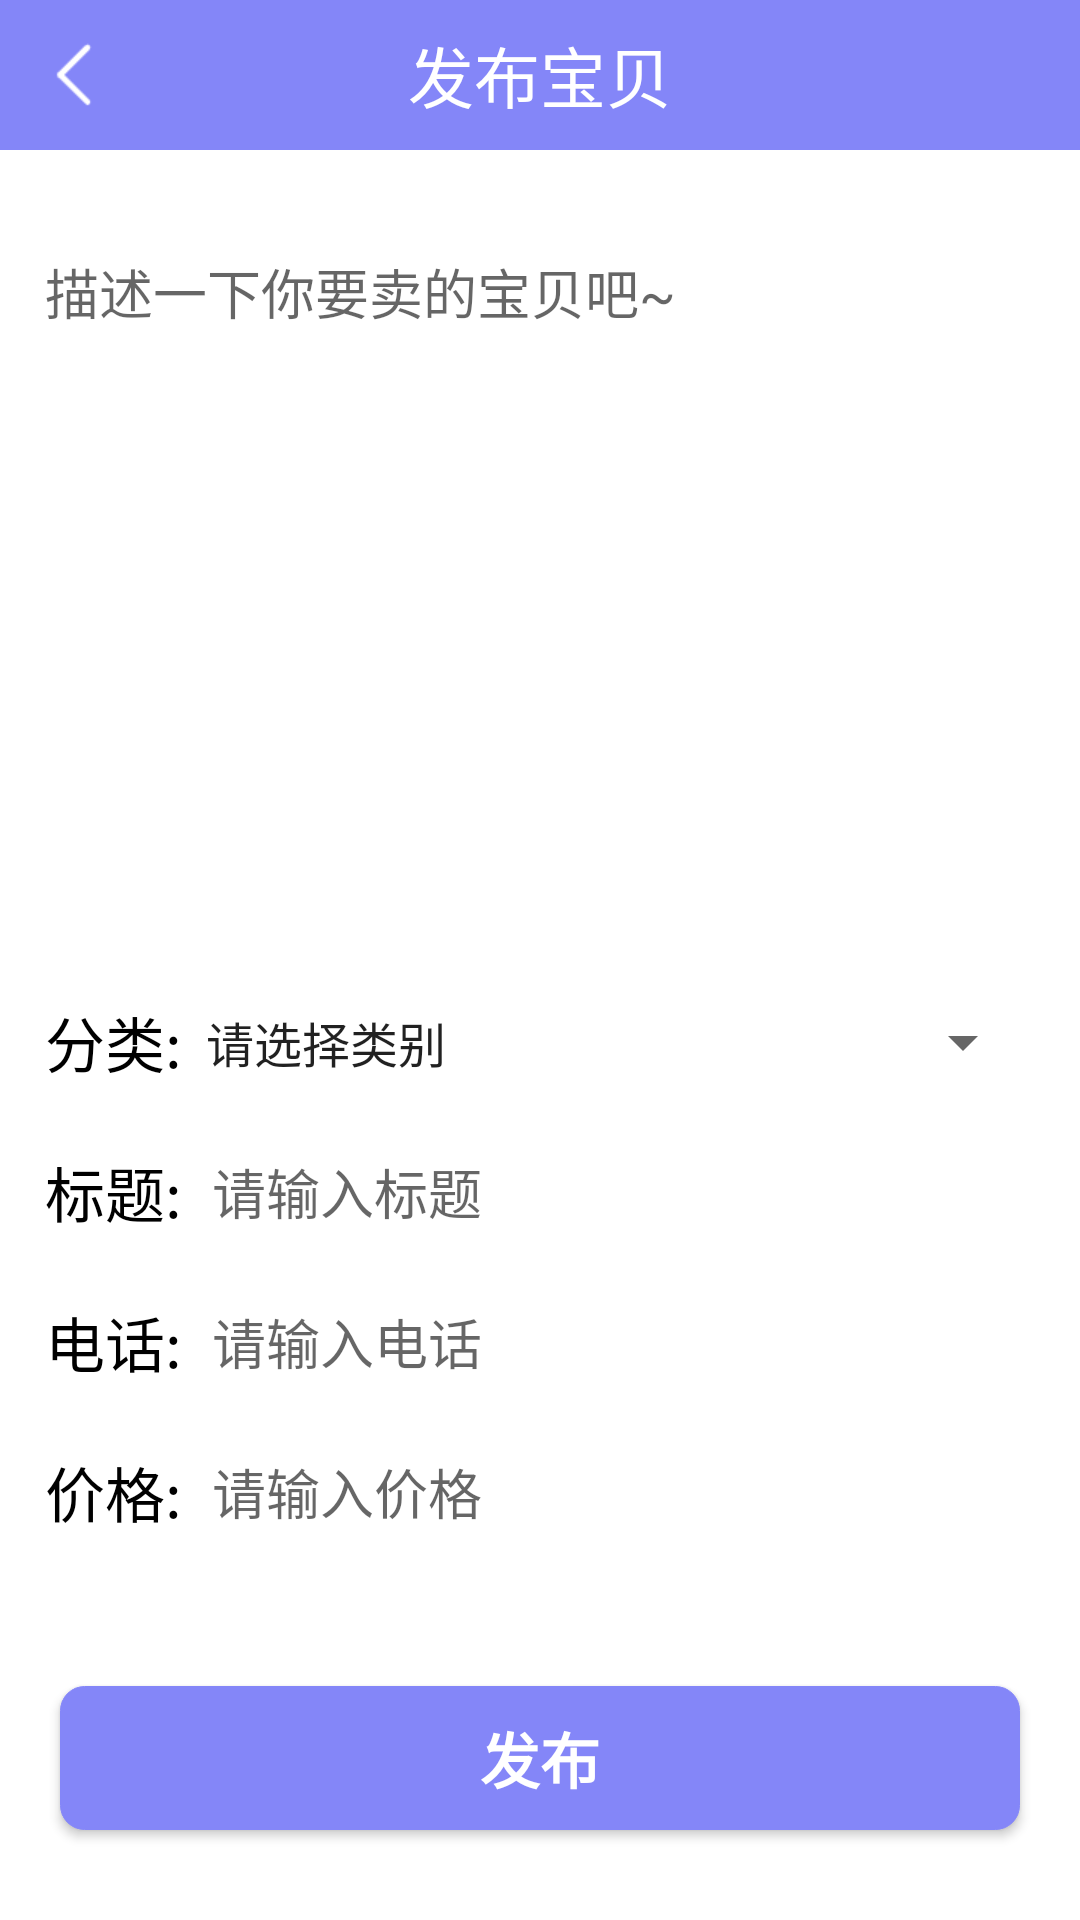

Icon bounding boxes for this 1080×1920 phone screenshot, format (x1, y1, x2, y2):
back: (57, 44, 91, 105)
